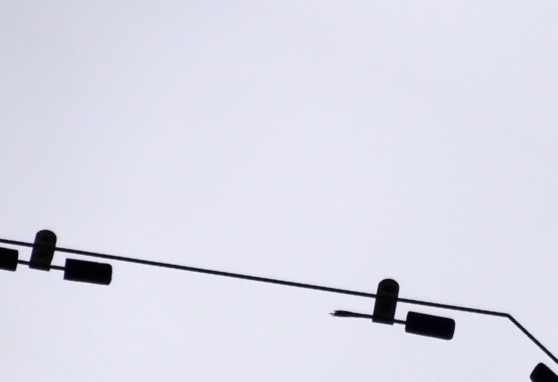damper_defect: (327, 276, 457, 344)
